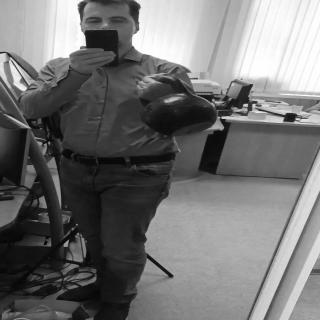kettlebell: (139, 74, 220, 139)
